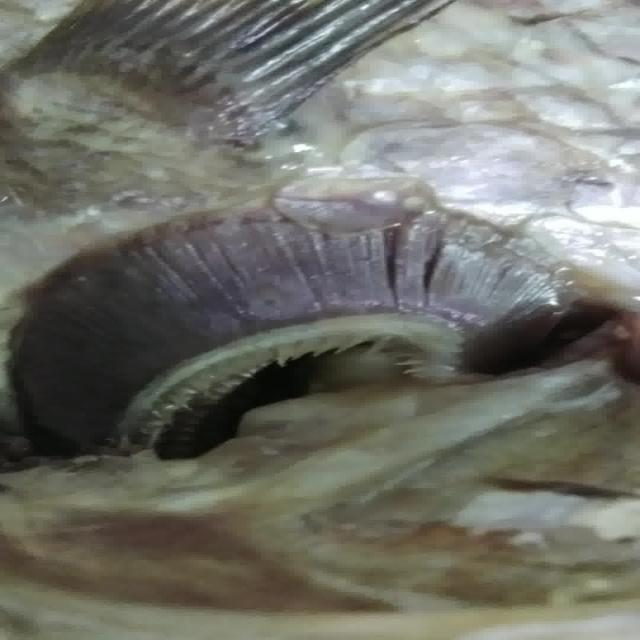Non-Fresh: (10, 194, 583, 416)
